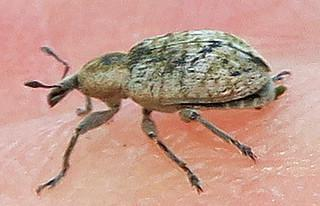weevils: (4, 13, 310, 204)
